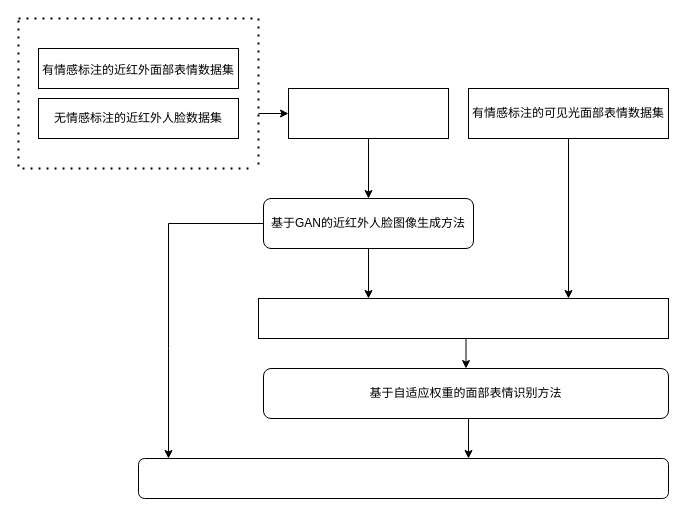
Some shapes in this 686 by 516 pixel diagram are drawn without their labels. The shapes that lost their labels are listed below. From the top down, each one's centre as x and y in pixels, then its label:
the point at 368,113: NIR-VIS域数据集的收集
the point at 463,318: 从大量VIS域数据集重建NIR人脸图像
the point at 403,478: 基于人脸图像合成的近红外面部表情识别方法
